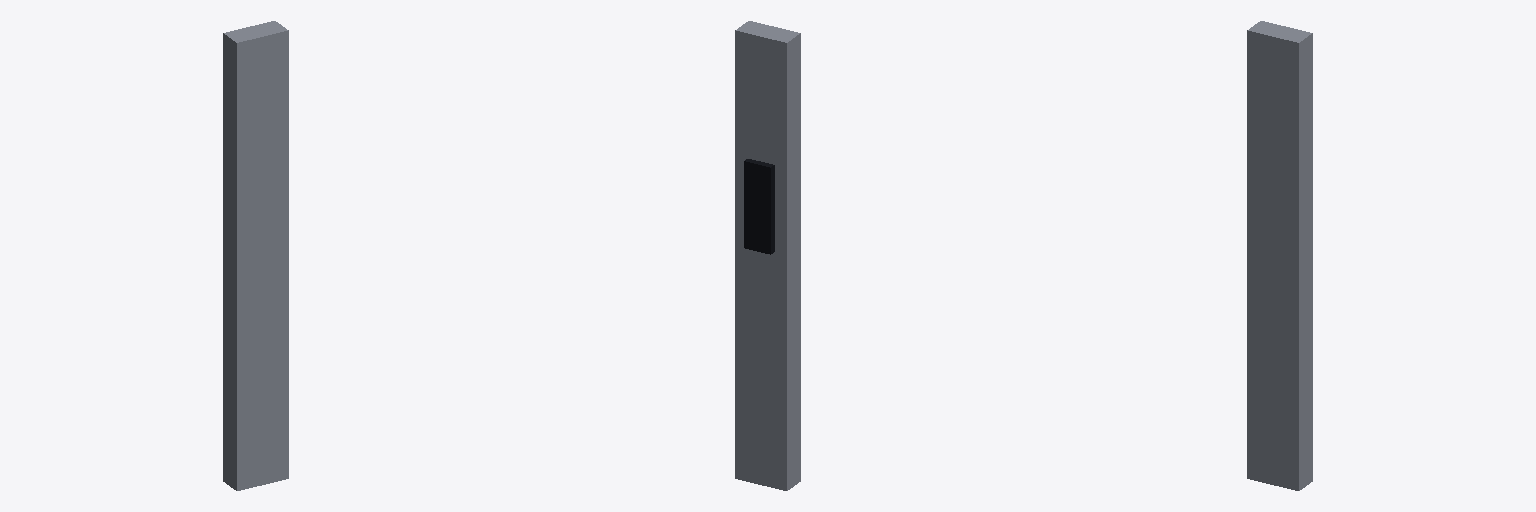
robot.urdf — artmanip_knife_025:
<?xml version='1.0' encoding='utf-8'?>
<robot name="artmanip_knife_025"><link name="link_0"><inertial><mass value="0.029" /><inertia ixx="5.351792665729595e-05" iyy="5.413555432286471e-05" izz="9.400935899165391e-07" ixy="0" ixz="0" iyz="0" /></inertial><visual><geometry><box size="0.01795235795953567 0.008168052876670901 0.14858880130697472" /></geometry><material name="link_0_color"><color rgba=".58 .60 .64 1" /></material></visual><collision><geometry><box size="0.01795235795953567 0.008168052876670901 0.14858880130697472" /></geometry></collision></link><link name="link_1"><inertial><mass value="0.006" /><inertia ixx="4.1976916526054654e-07" iyy="4.5989071846067664e-07" izz="4.506560041021812e-08" ixy="0" ixz="0" iyz="0" /></inertial><visual><geometry><box size="0.009229688706037067 0.0022235213536388725 0.028889345498141785" /></geometry><material name="link_1_color"><color rgba=".12 .13 .15 1" /></material></visual><collision><geometry><box size="0.009229688706037067 0.0022235213536388725 0.028889345498141785" /></geometry></collision></link><joint name="slider" type="prismatic"><parent link="link_0" /><child link="link_1" /><origin xyz="0.0 0.005195787115154887 0.018459944515297783" /><axis xyz="0 0 1" /><limit lower="-0.04074826471134399" upper="0.009251735288656013" effort="100" velocity="1" /><dynamics damping="1000" friction="0.001" /></joint></robot>

--- Render facts (derived) ---
3 views of the same robot in one strip: view 1: azimuth 30°, elevation 25°; view 2: azimuth 150°, elevation 25°; view 3: azimuth 330°, elevation 25° (orthographic).
Model artmanip_knife_025 with 2 links and 1 joints (1 prismatic), rooted at link_0, posed every joint at zero.
Visible links, largest first — view 1: link_0; view 2: link_0, link_1; view 3: link_0.
Boxes of the visible links, box(x1,y1,x2,y2) form: link_0: box(223, 21, 288, 490); link_0: box(735, 21, 800, 490); link_1: box(744, 159, 774, 254); link_0: box(1247, 21, 1312, 490).
Size in the robot's own frame: 0.018 by 0.0104 by 0.1486 metres.
Geometry: primitives only (box / cylinder / sphere), no mesh files.
